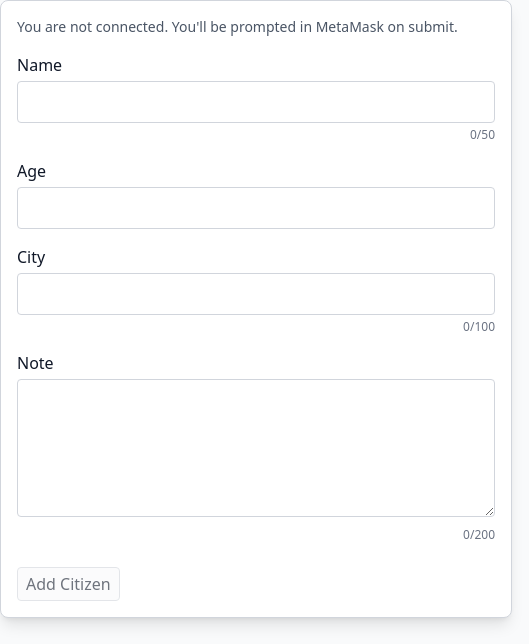
Test case: AddCitizenPage › shows busy state during submission
In the field labelled "Name": (256, 102) [17,81,495,123], type "Alice"
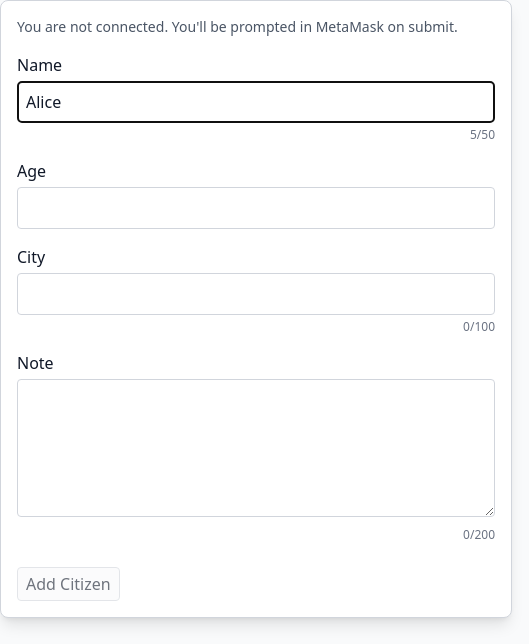
In the field labelled "Age": (256, 208) [17,187,495,229], type "33"
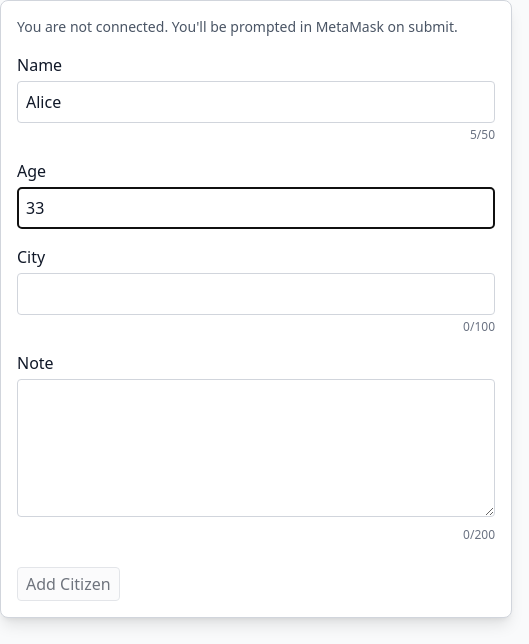
In the field labelled "City": (256, 294) [17,273,495,315], type "Dubai"
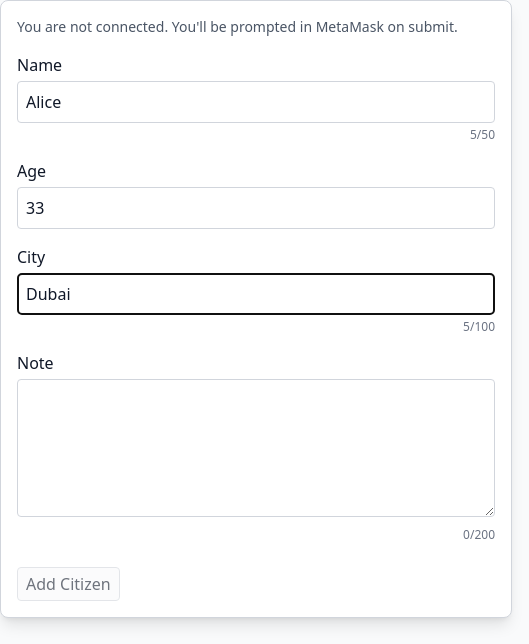
In the text box labelled "Note": (256, 448) [17,379,495,517], type "Note text"
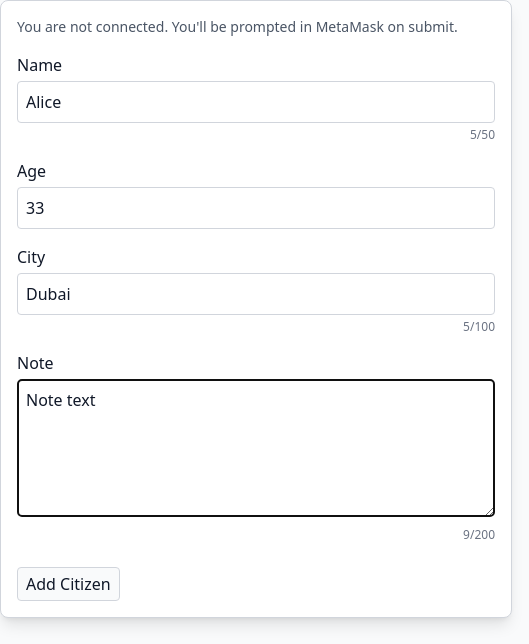
Click the button "Add Citizen": click(68, 584) [17,567,120,601]
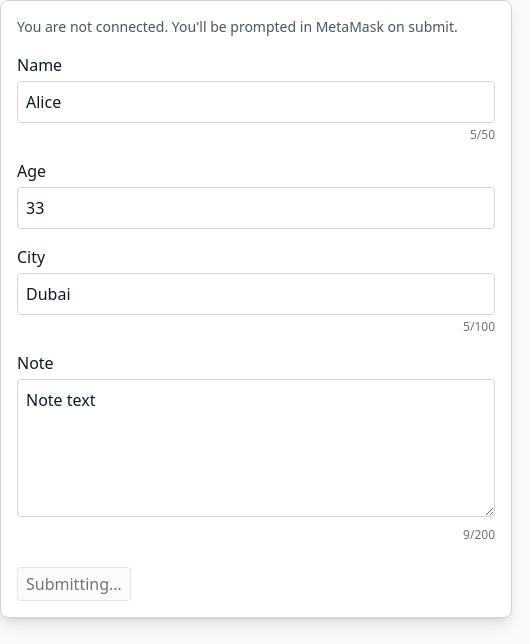
Check: the button "Submitting…" is shown, box [17,567,131,601]
